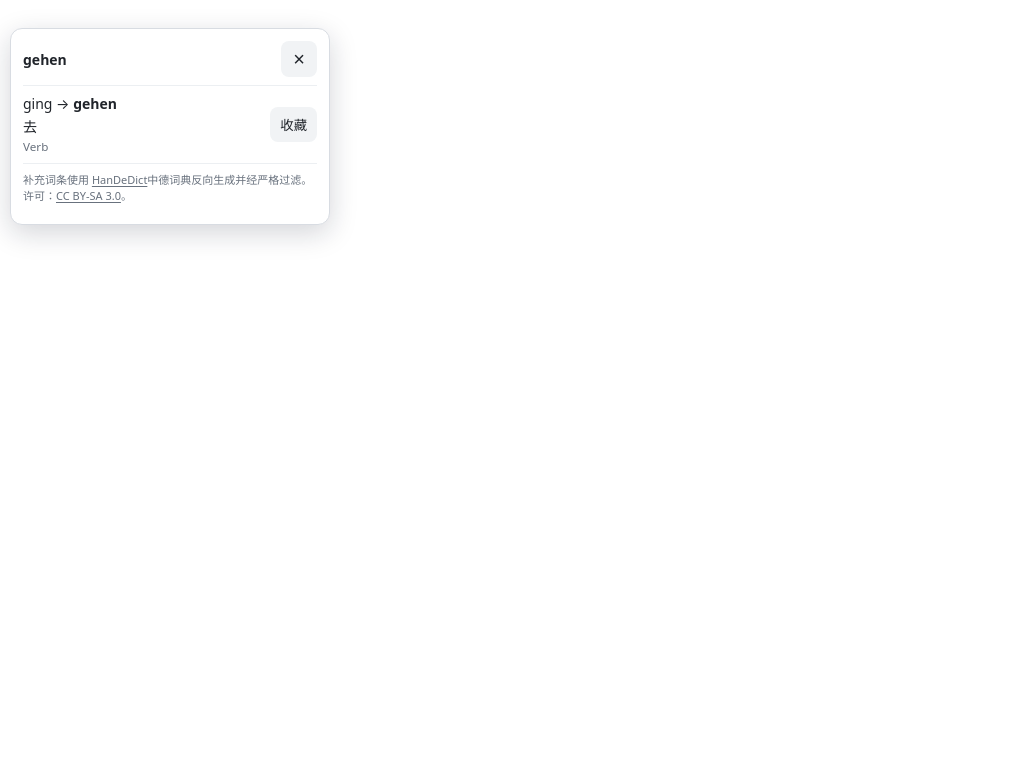
dictionary lookup overlay › keeps the panel open for internal pointer and favorite actions
The image size is (1024, 768).
Press the mouse on the link "HanDeDict" at (120, 180), box [92,172,147,187]
expect the dialog named "词典查询：gehen" is shown: met, box [10,28,330,225]
Click the button "收藏" at (294, 124), box [270,107,317,142]
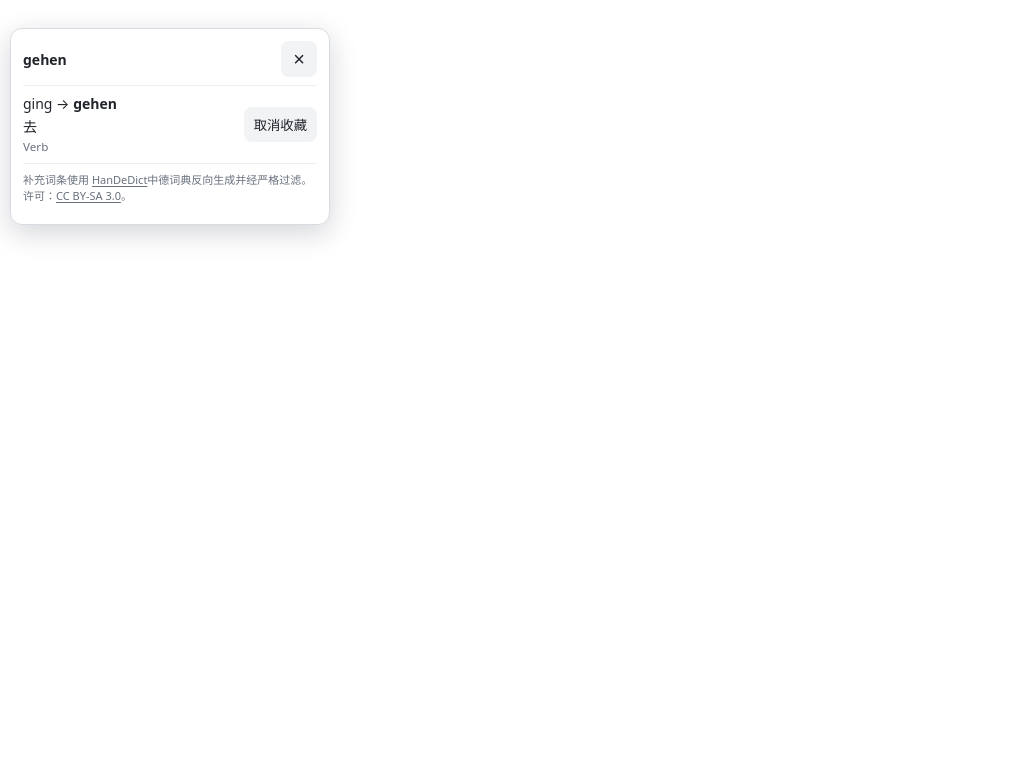
expect the dialog named "词典查询：gehen" is shown: met, box [10,28,330,225]
expect the button "取消收藏" is shown: met, box [244,107,317,142]
